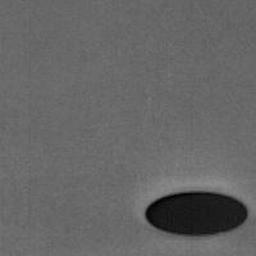Punching: (146, 192, 247, 237)
